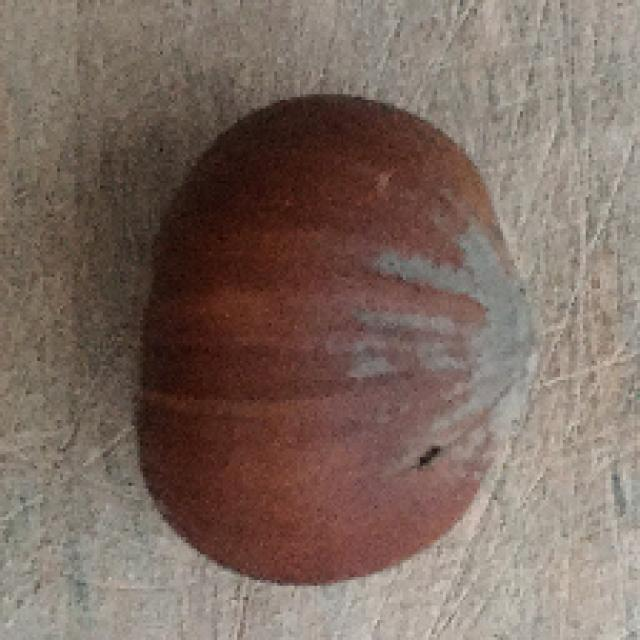qualityHazelnut: (128, 88, 532, 591)
